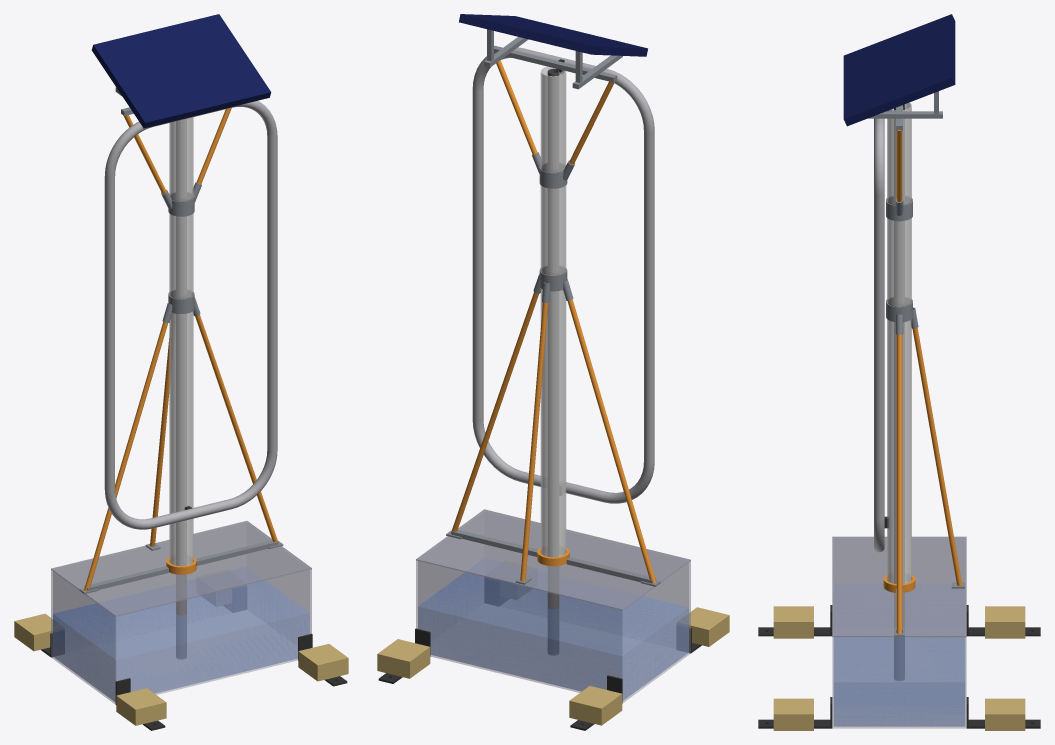
Rendered from unit-water-v1.glb.
3 renders of one model, left to right at view 1: azimuth 30°, elevation 25°; view 2: azimuth 150°, elevation 25°; view 3: azimuth 270°, elevation 25°, orthographic. The views are drawn at different scales.
Visible parts, largest first — view 1: tank, water_volume, solar_panel_30W, track_loop, lid, growing_pipe, spine_tube, sandbags, lower_aframe_and_back_strut_16mm, base_bar_and_lid_plates, clamp_collars_50mm, fold_out_feet (+1 smaller); view 2: tank, water_volume, growing_pipe, lid, track_loop, spine_tube, lower_aframe_and_back_strut_16mm, sandbags, solar_panel_30W, base_bar_and_lid_plates, clamp_collars_50mm, panel_rails_and_posts (+3 smaller); view 3: tank, lid, water_volume, growing_pipe, solar_panel_30W, sandbags, track_loop, lower_aframe_and_back_strut_16mm, spine_tube, fold_out_feet, clamp_collars_50mm, panel_rails_and_posts (+1 smaller).
Part boxes in pixels (bbox=[...]): tank: bbox=[51, 522, 311, 704]; water_volume: bbox=[53, 581, 309, 701]; solar_panel_30W: bbox=[91, 14, 271, 128]; track_loop: bbox=[104, 101, 277, 529]; lid: bbox=[51, 521, 311, 616]; growing_pipe: bbox=[169, 117, 193, 566]; spine_tube: bbox=[176, 119, 186, 658]; sandbags: bbox=[14, 600, 348, 725]; lower_aframe_and_back_strut_16mm: bbox=[84, 315, 278, 590]; base_bar_and_lid_plates: bbox=[79, 540, 283, 594]; clamp_collars_50mm: bbox=[161, 182, 201, 322]; fold_out_feet: bbox=[41, 594, 347, 730]; tank: bbox=[416, 511, 690, 702]; water_volume: bbox=[418, 573, 688, 700]; growing_pipe: bbox=[540, 66, 566, 557]; lid: bbox=[416, 509, 690, 610]; track_loop: bbox=[472, 47, 654, 503]; spine_tube: bbox=[547, 68, 559, 654]; lower_aframe_and_back_strut_16mm: bbox=[451, 292, 656, 583]; sandbags: bbox=[377, 607, 729, 725]; solar_panel_30W: bbox=[459, 14, 647, 56]; base_bar_and_lid_plates: bbox=[446, 530, 660, 586]; clamp_collars_50mm: bbox=[532, 152, 575, 302]; panel_rails_and_posts: bbox=[484, 29, 622, 89]; tank: bbox=[832, 637, 966, 728]; lid: bbox=[832, 536, 966, 637]; water_volume: bbox=[834, 637, 964, 726]; growing_pipe: bbox=[887, 102, 911, 583]; solar_panel_30W: bbox=[843, 14, 955, 126]; sandbags: bbox=[773, 606, 1025, 730]; track_loop: bbox=[874, 118, 884, 552]; lower_aframe_and_back_strut_16mm: bbox=[896, 328, 962, 633]; spine_tube: bbox=[894, 104, 904, 680]; fold_out_feet: bbox=[758, 605, 1040, 728]; clamp_collars_50mm: bbox=[886, 198, 918, 334]; panel_rails_and_posts: bbox=[868, 91, 942, 118].
Bounding box in the file's own units: 760 × 2080 × 840.
